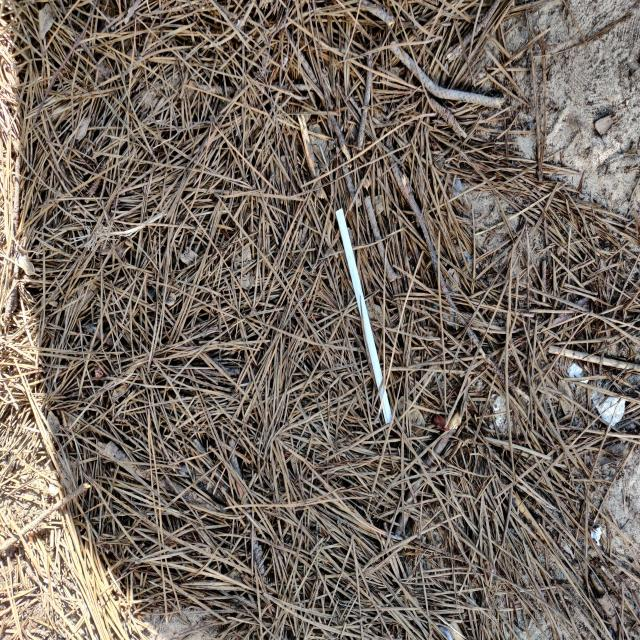litter: (331, 206, 393, 426), (564, 361, 623, 421)
